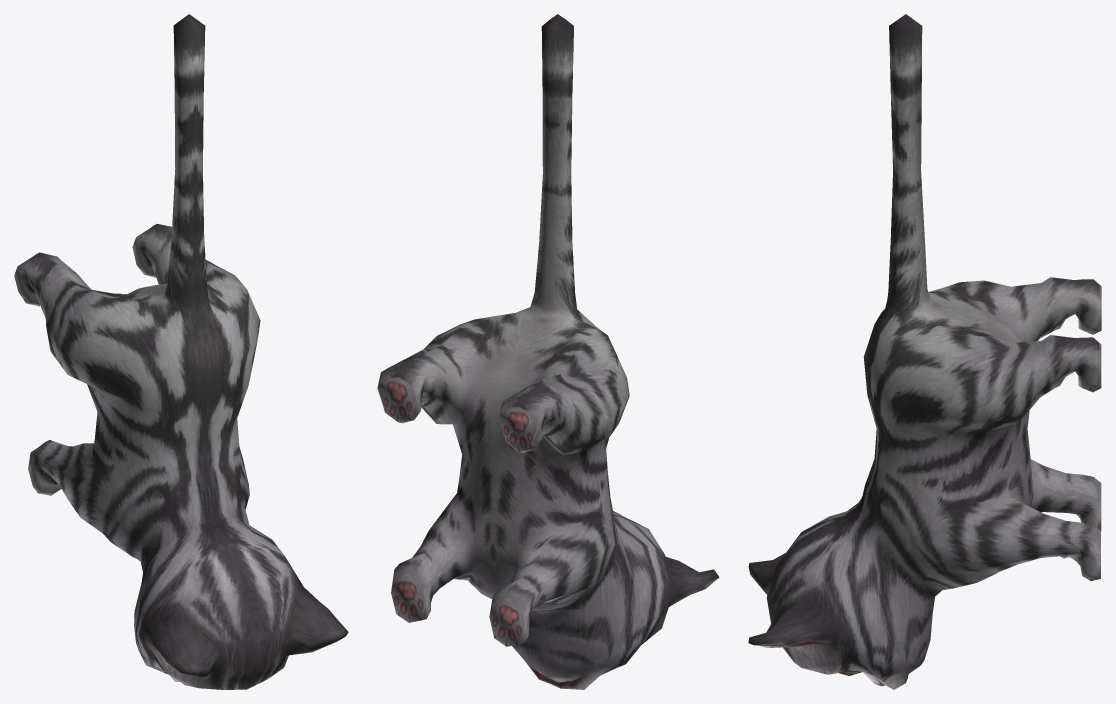
3 views of the same model, side by side, from view 1: azimuth 30°, elevation 25°; view 2: azimuth 150°, elevation 25°; view 3: azimuth 270°, elevation 25° (orthographic). The views are drawn at different scales.
Parts seen in each view (by area): view 1: M152; view 2: M152; view 3: M152.
Part boxes in pixels (<box>): M152: <box>14,14,348,689</box>; M152: <box>377,14,719,689</box>; M152: <box>748,14,1101,689</box>.
Size of the model in its own units: 0.4189 by 1.41 by 0.6729.
